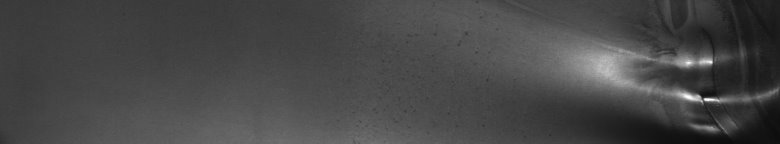ke: (592, 4, 724, 136)
